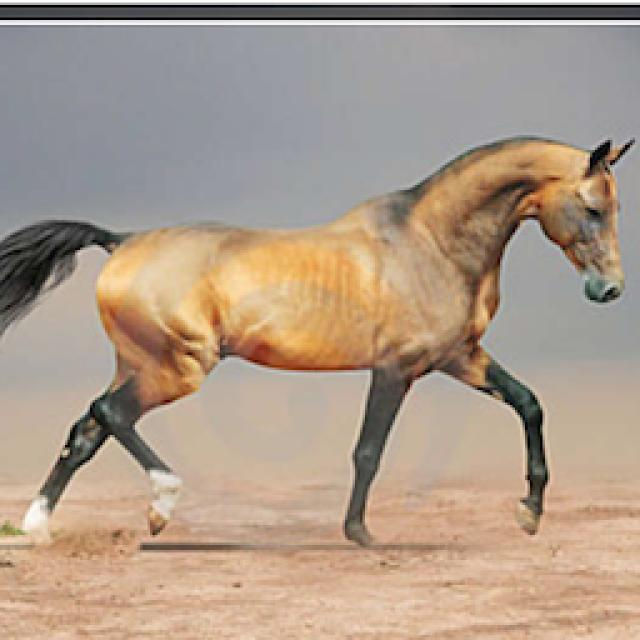Horse: (0, 125, 638, 555)
